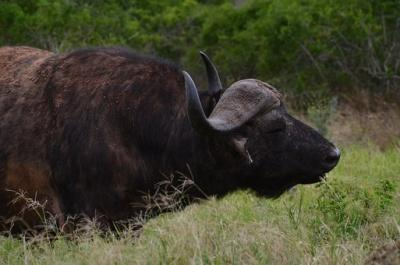buffalo: (0, 46, 341, 241)
